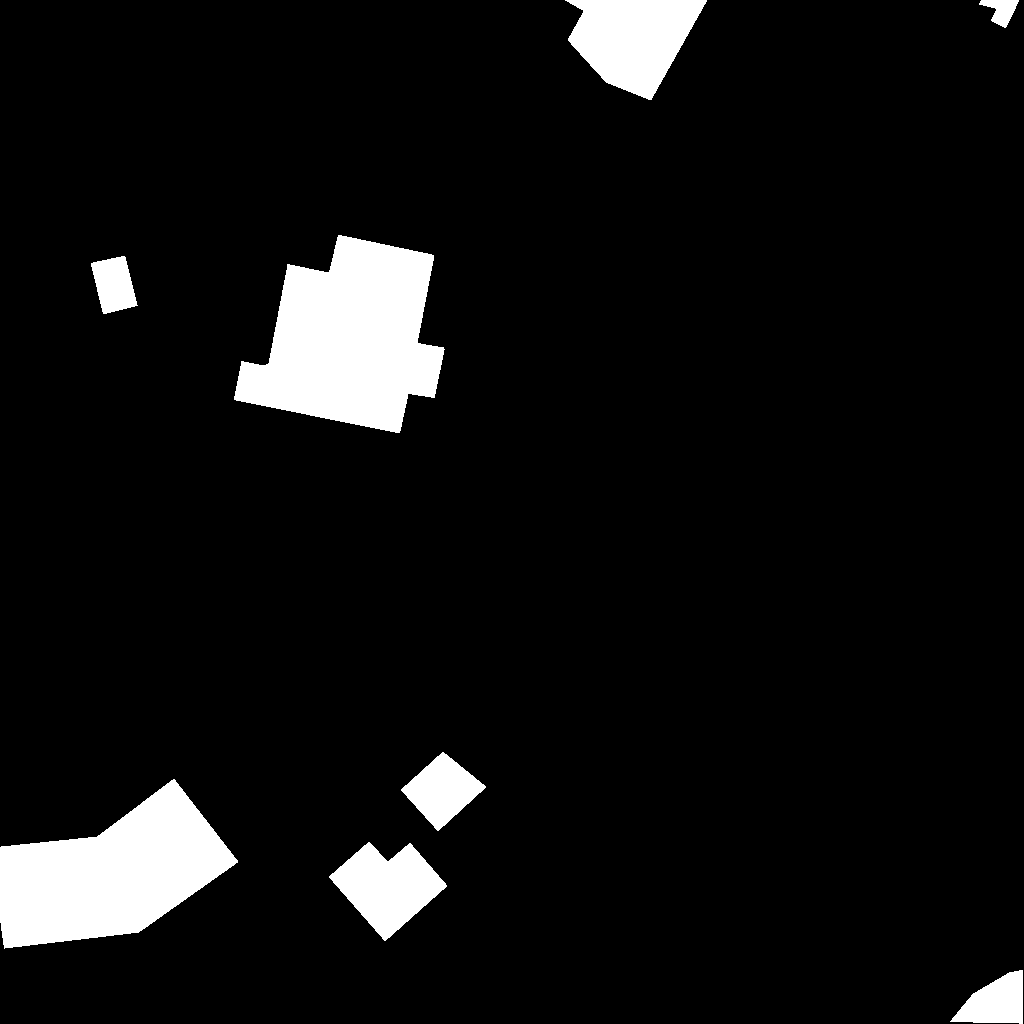building: (234, 235, 445, 434), (0, 779, 239, 949), (564, 0, 708, 101), (329, 842, 448, 942), (401, 752, 487, 832), (950, 970, 1024, 1024), (91, 256, 138, 315), (979, 0, 1020, 29)
